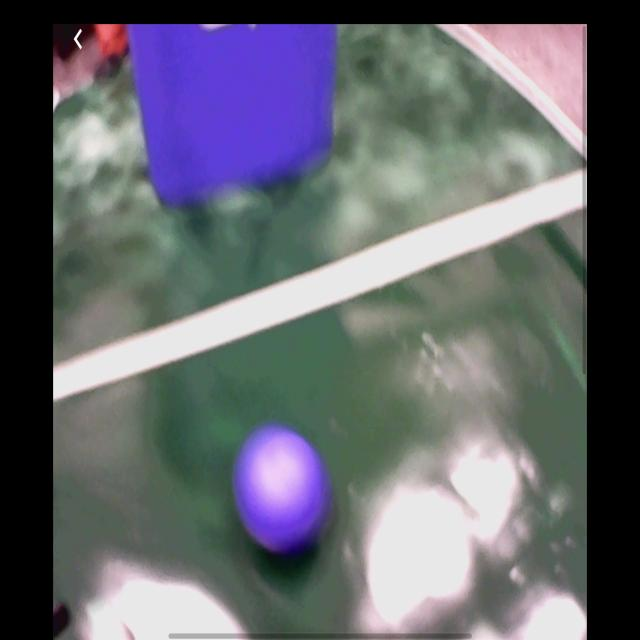ball: (232, 424, 328, 557)
